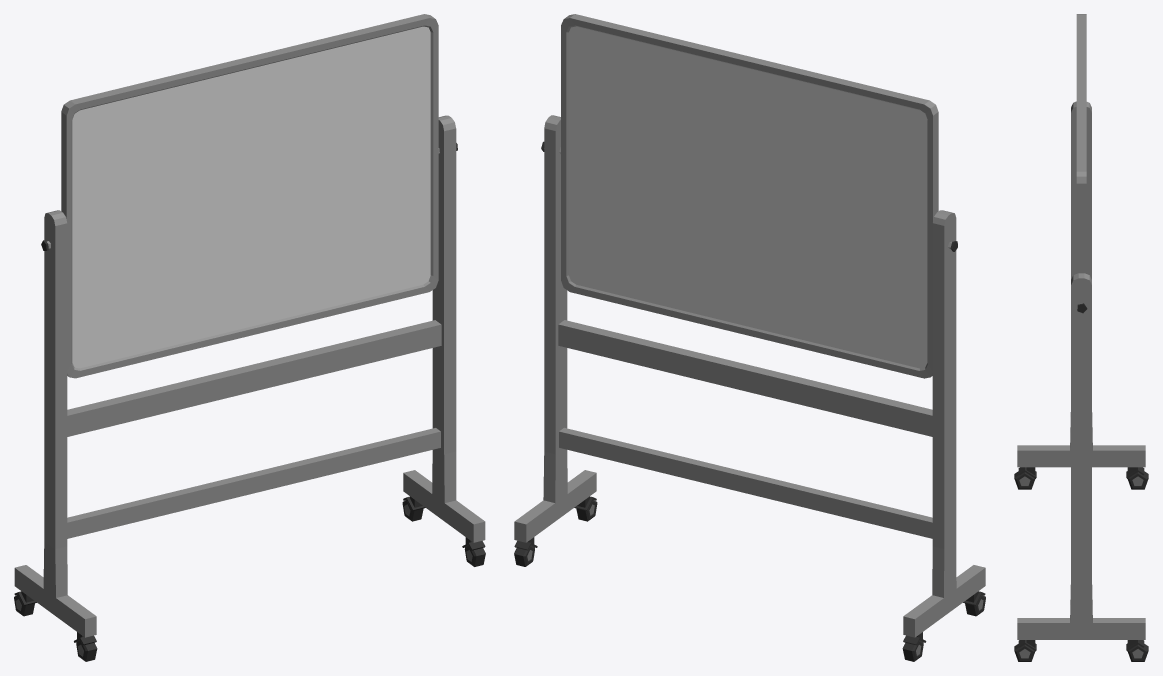
Rendered from Int_StandingBoard01_1.fbx.
The picture shows the model from 3 angles, left to right: view 1: azimuth 30°, elevation 25°; view 2: azimuth 150°, elevation 25°; view 3: azimuth 270°, elevation 25°; orthographic projection. The views are drawn at different scales.
Visible parts, largest first — view 1: Int_Board01_1, Int_StandingBoard01_1; view 2: Int_Board01_1, Int_StandingBoard01_1; view 3: Int_StandingBoard01_1, Int_Board01_1.
Boxes of the visible parts, <box> form: Int_Board01_1: <box>41,14,457,378</box>; Int_StandingBoard01_1: <box>14,115,485,661</box>; Int_Board01_1: <box>541,14,957,378</box>; Int_StandingBoard01_1: <box>514,115,985,661</box>; Int_StandingBoard01_1: <box>1014,101,1148,661</box>; Int_Board01_1: <box>1076,14,1087,313</box>.
Size of what is drawn, in the model's own units: 138 by 43.08 by 170.
